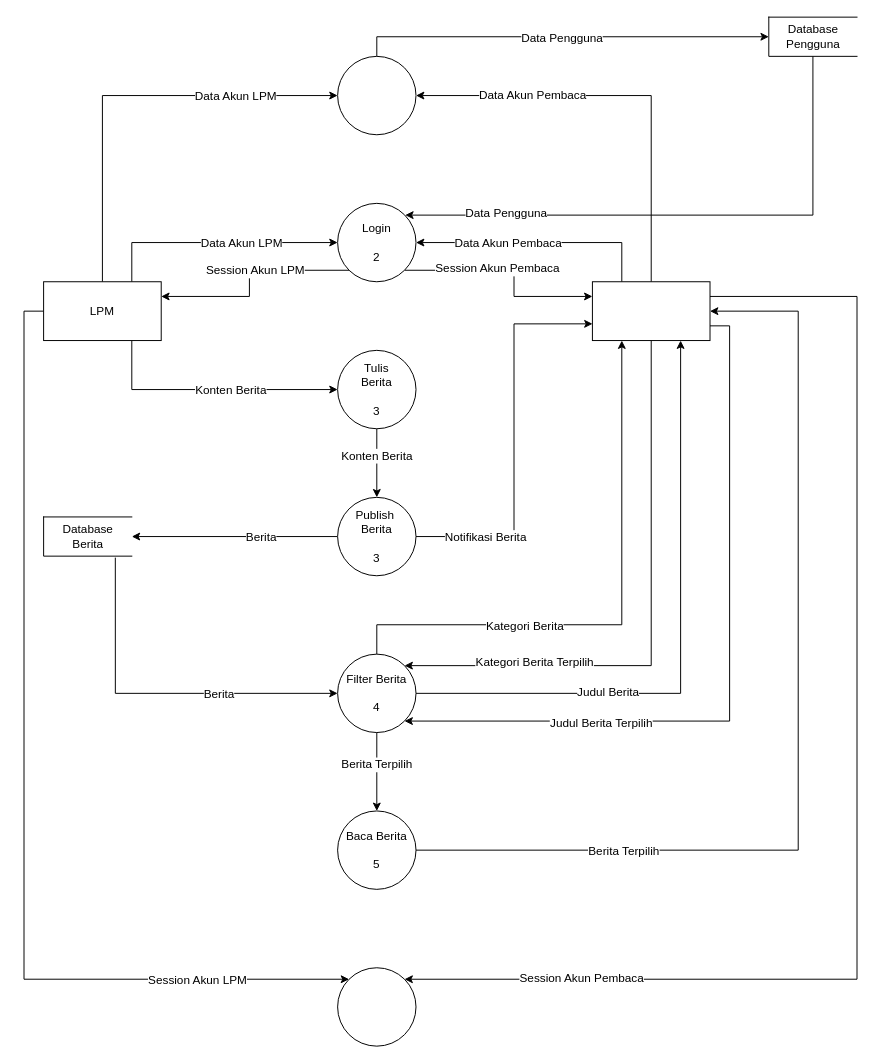
Image size: 882x1063. Some labels were removed from this diagram. Here are the shapes that lost their labels. From the top down, the box of each, then its label:
(337, 55, 416, 135): Registrasi 1
(591, 281, 710, 341): Pembaca
(337, 967, 416, 1046): Logout 6
